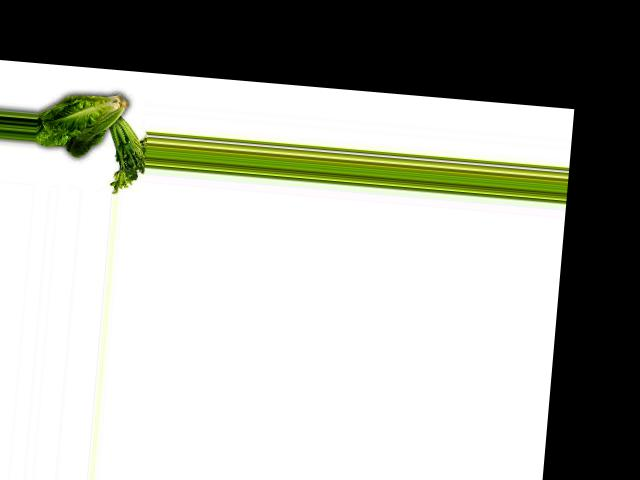lettuce: (33, 90, 133, 169)
